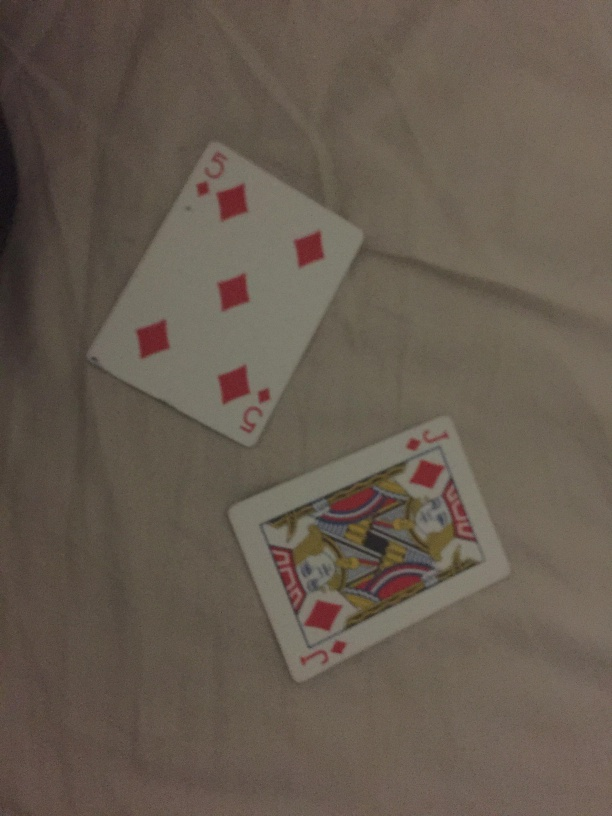5: (64, 130, 368, 455)
jack: (217, 413, 516, 682)
